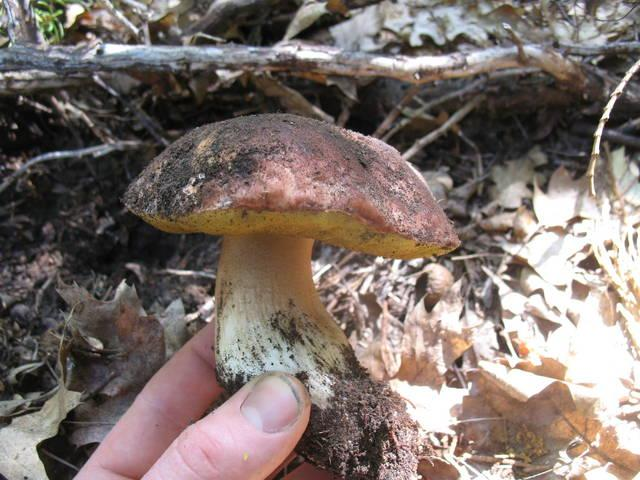Edible Mushroom: (120, 110, 462, 477)
